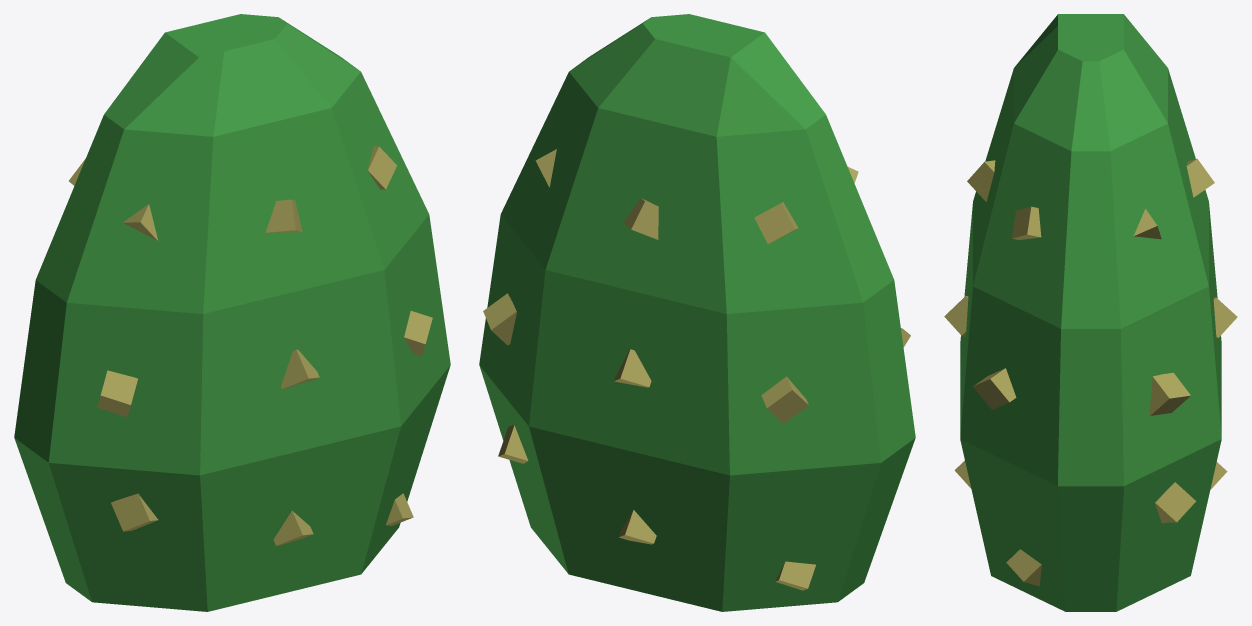
The model's file is Cactus_4_Light_Green.fbx.
The picture shows the model from 3 angles, left to right: view 1: azimuth 30°, elevation 25°; view 2: azimuth 150°, elevation 25°; view 3: azimuth 270°, elevation 25°; orthographic projection. The views are drawn at different scales.
Parts seen in each view (by area): view 1: Cactus_4_Light_Green_Part_1, Cactus_4_Light_Green_Part_2; view 2: Cactus_4_Light_Green_Part_1, Cactus_4_Light_Green_Part_2; view 3: Cactus_4_Light_Green_Part_1, Cactus_4_Light_Green_Part_2.
Boxes of the visible parts, x1,y1,x2,y2 form: Cactus_4_Light_Green_Part_1: (14,14,450,611); Cactus_4_Light_Green_Part_2: (69,146,432,545); Cactus_4_Light_Green_Part_1: (479,14,915,611); Cactus_4_Light_Green_Part_2: (483,149,910,590); Cactus_4_Light_Green_Part_1: (960,14,1221,611); Cactus_4_Light_Green_Part_2: (944,158,1237,586).
Size of the model in its own units: 68.29 by 84.81 by 44.93.
